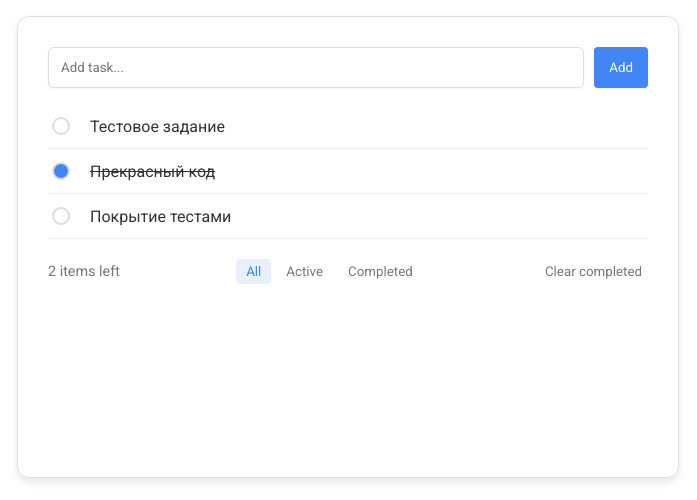
Test: App Component › should filter the tasks based on the filter button selected
Click the button "Active" at (305, 272), box [276, 259, 333, 284]
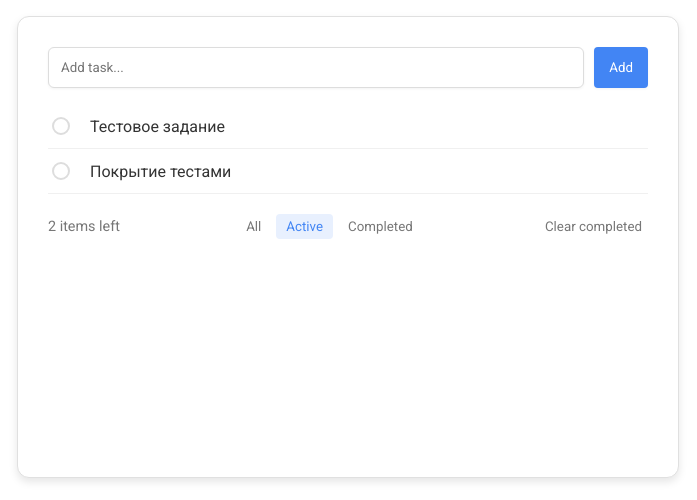
expect the text "Прекрасный код" is gone: met
Click the button "Completed" at (380, 226), box [338, 214, 423, 239]
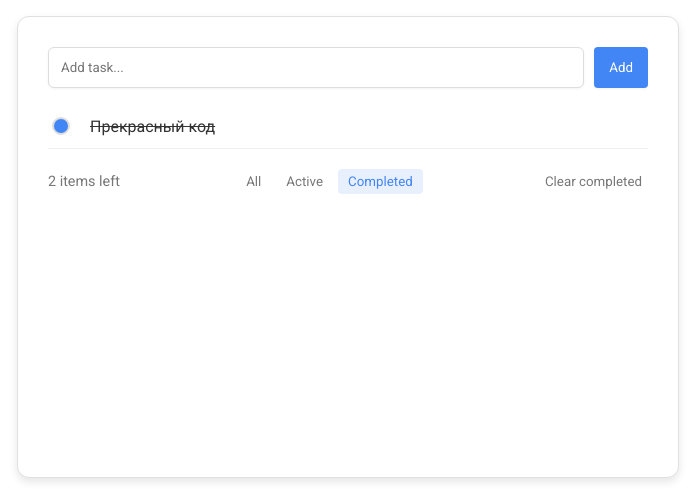
expect the text "Тестовое задание" is gone: met
Click the button "All" at (254, 182), box [236, 169, 271, 194]
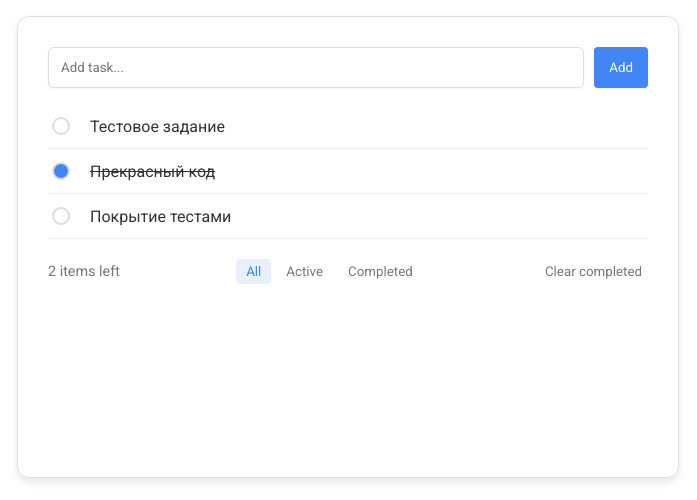
expect the text "Прекрасный код" is shown: met, box [90, 162, 215, 180]
expect the text "Тестовое задание" is shown: met, box [90, 116, 225, 136]
